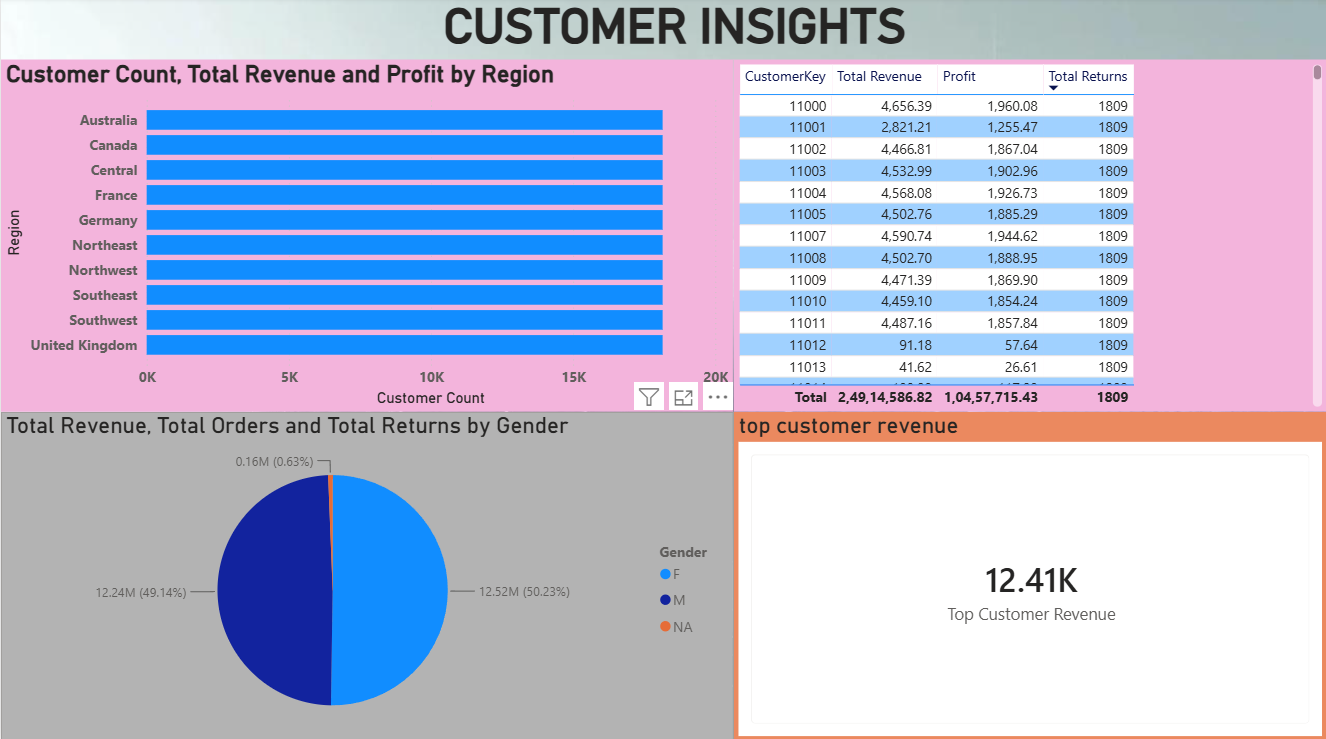

Layout of this report page (visuals, bound fields, positions):
{"tool":"powerbi","page":{"name":"Customer Insights","canvas":[1280,720],"ordinal":3},"visuals":[{"type":"cardVisual","title":"top customer revenue","fields":{"Data":["Calendar.Top Customer Revenue"]},"box":[706.6,400.5,573.1,318.6],"z":0},{"type":"clusteredBarChart","fields":{"Category":["Territories.Region"],"Y":["Calendar.Customer Count"]},"box":[0,60.5,706.6,339.9],"z":1000},{"type":"tableEx","fields":{"Values":["Customers.CustomerKey","total_sales.Total Revenue","total_sales.Profit","total_sales.Total Returns"]},"box":[706.6,60.5,573.1,339.9],"z":2000},{"type":"pieChart","fields":{"Category":["Customers.Gender"],"Y":["total_sales.Total Revenue"]},"box":[0,400.5,706.6,320.4],"z":3000},{"type":"textbox","title":"CUSTOMER INSIGHTS","box":[422.4,0,489.2,61.2],"z":4000}]}

Visuals, with their boxes in screenshot pixels (x1, y1, x2, y2), scaled from the page's 1280x720 canvas onto the 1326x739 screenshot:
"top customer revenue" cardVisual: (732, 411, 1325, 738)
clusteredBarChart - Territories.Region x Calendar.Customer Count: (0, 62, 732, 411)
tableEx - Customers.CustomerKey x total_sales.Total Revenue: (732, 62, 1325, 411)
pieChart - Customers.Gender x total_sales.Total Revenue: (0, 411, 732, 738)
"CUSTOMER INSIGHTS" textbox: (438, 0, 944, 63)
